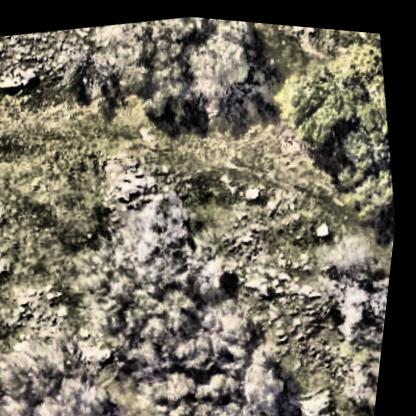tree-top: (66, 188, 277, 393), (277, 36, 415, 257), (53, 4, 274, 128), (0, 313, 138, 416), (143, 339, 288, 416), (320, 257, 396, 341), (341, 335, 389, 414)
